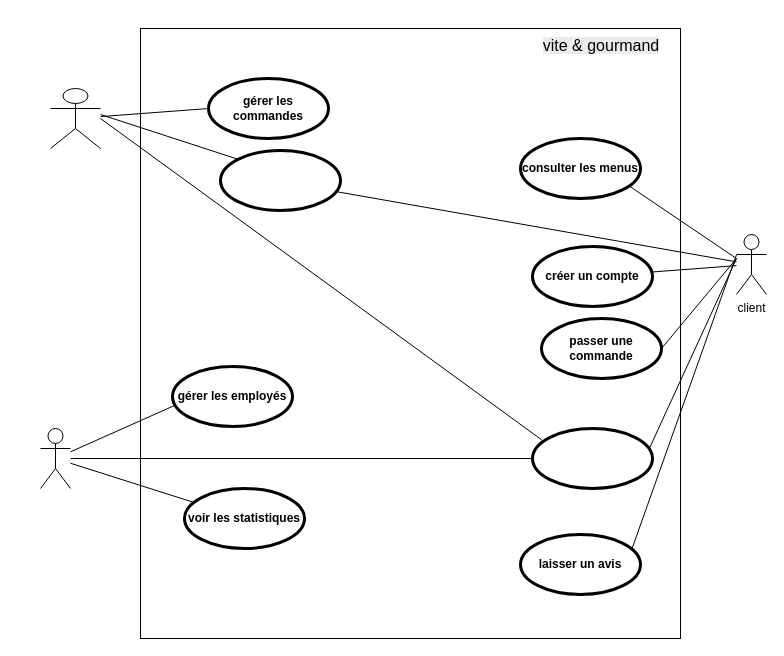
The diagram is 784 pixels wide and 656 high, and some of its shapes have lost their labels. The centre of each missing label's shape, as x and y in pixels:
administrateur: point (55, 458)
employé: point (75, 118)
se connecter: point (592, 458)
valider les avis: point (280, 180)
